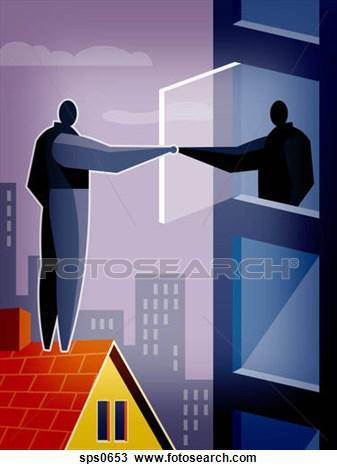person: (19, 91, 179, 362), (171, 82, 315, 218)
